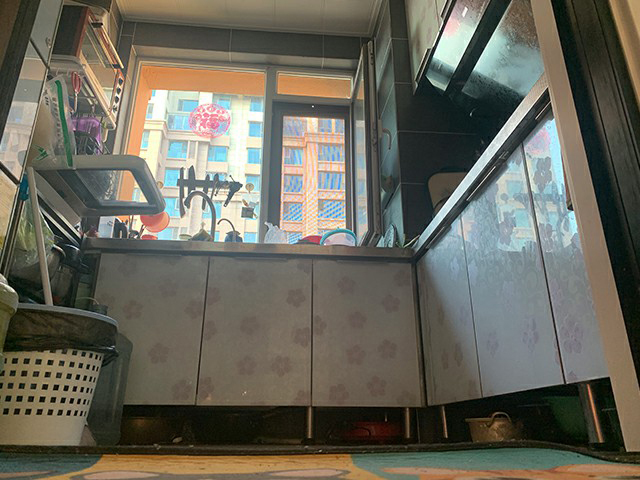cabinet: (85, 240, 412, 448), (413, 152, 609, 446)
carpet: (1, 443, 640, 480)
trashcan: (1, 302, 118, 448)
